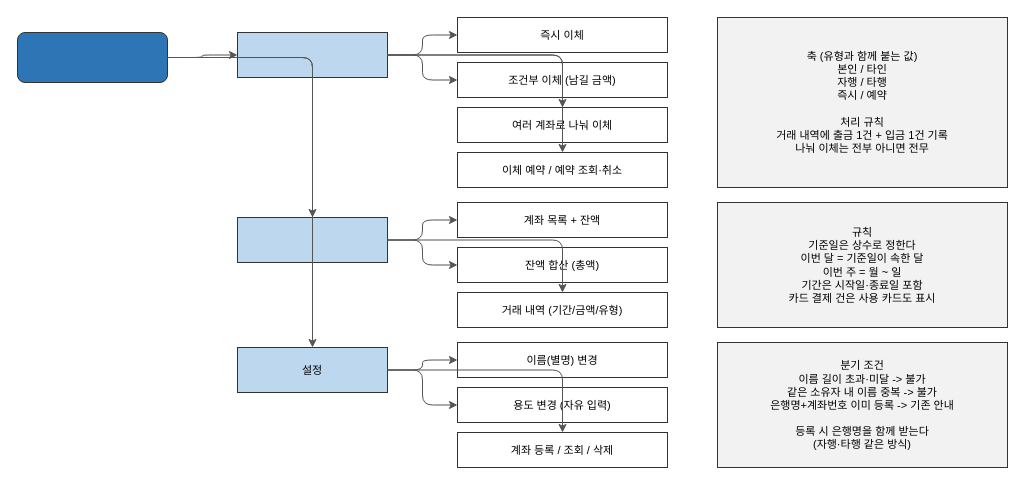
The diagram is 1025 pixels wide and 485 high, and some of its shapes have lost their labels. The shapes that lost their labels are listed below. From the top down, each one's centre as x and y in pixels, then its label:
At point 92,57: "계좌 AccountAgent".
At point 312,55: "이체".
At point 312,239: "조회".
